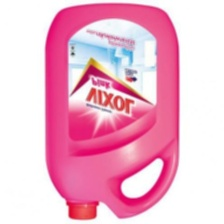cleaning_solution: (42, 0, 182, 220)
